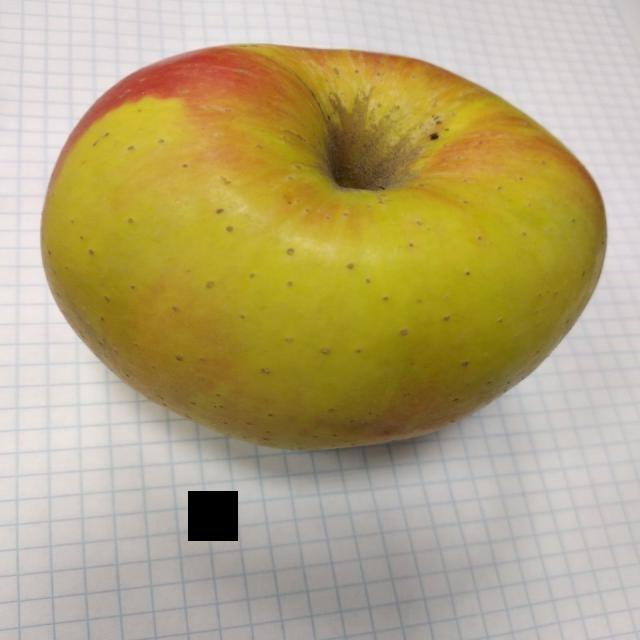green apple: (32, 42, 593, 469)
